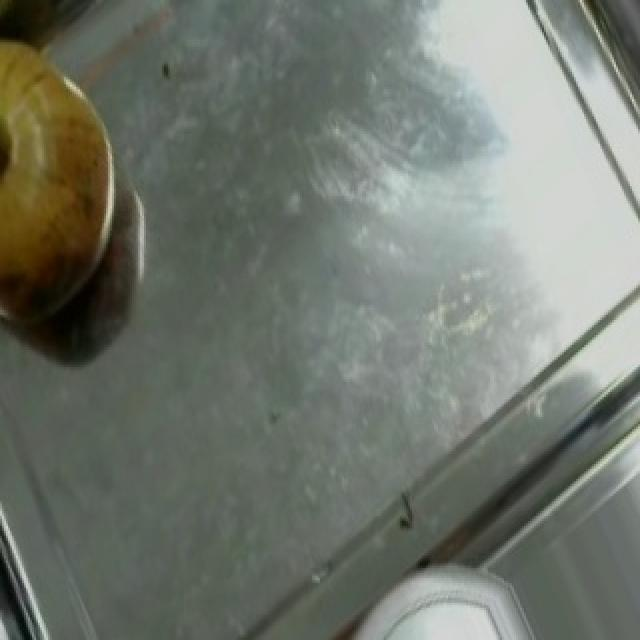fruit: (0, 57, 146, 357)
